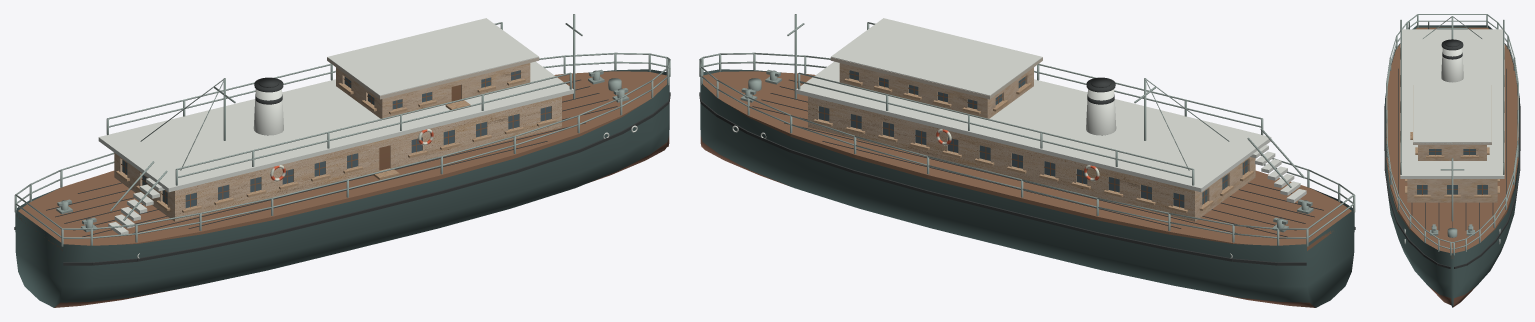
The model's file is steam_ferry.gltf.
3 views of the same model, side by side, from view 1: azimuth 30°, elevation 25°; view 2: azimuth 150°, elevation 25°; view 3: azimuth 270°, elevation 25° (orthographic). The views are drawn at different scales.
Visible parts, largest first — view 1: steam_ferry; view 2: steam_ferry; view 3: steam_ferry.
Boxes of the visible parts, box(x1,y1,x2,y2) form: steam_ferry: box(14, 14, 670, 307); steam_ferry: box(699, 14, 1355, 307); steam_ferry: box(1384, 14, 1520, 307).
Size of the model in its own units: 1 by 0.2676 by 0.2522.
Materials: 8 (1 with a texture image).
